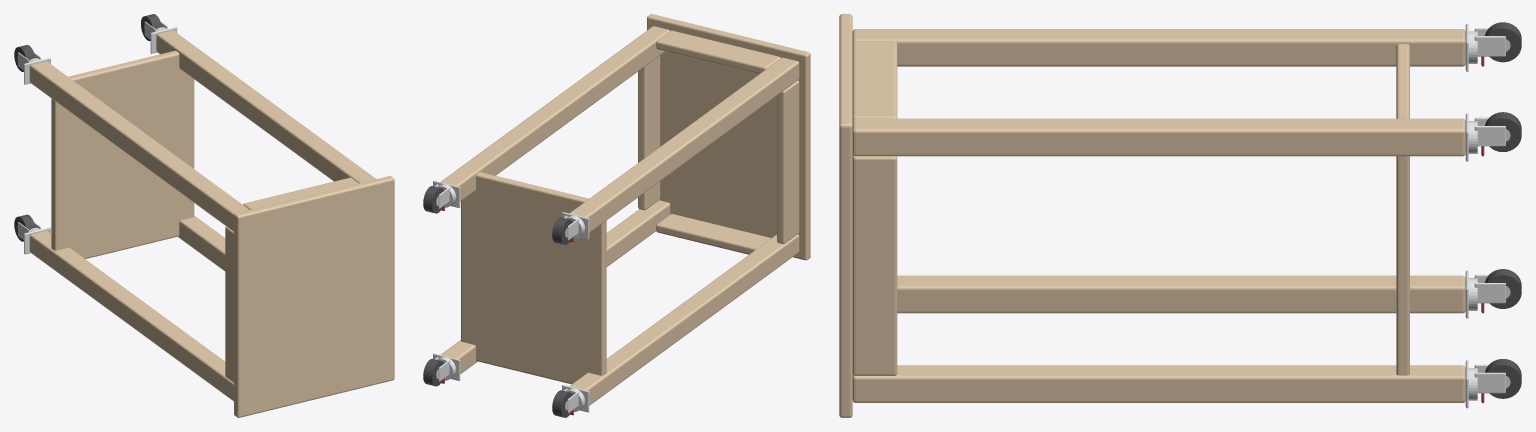
The model's file is robot_cart.glb.
The picture shows the model from 3 angles, left to right: view 1: azimuth 30°, elevation 25°; view 2: azimuth 150°, elevation 25°; view 3: azimuth 270°, elevation 25°; orthographic projection. The views are drawn at different scales.
Visible parts, largest first — view 1: top, shelf, leg_2, leg_0, leg_3, leg_1, apron_x-1, apron_1; view 2: shelf, top, leg_2, leg_0, leg_3, apron_x-1, leg_1, apron_x1, apron_1, apron_-1, caster_wheel_2, caster_wheel_0 (+2 smaller); view 3: leg_3, leg_1, leg_2, leg_0, apron_x1, top, shelf, apron_1, caster_wheel_2, caster_wheel_0, caster_wheel_1, caster_wheel_3 (+4 smaller).
Part boxes in pixels (x1=…): top: x1=234, y1=176, x2=394, y2=417; shelf: x1=51, y1=50, x2=194, y2=258; leg_2: x1=29, y1=61, x2=249, y2=231; leg_0: x1=29, y1=231, x2=233, y2=401; leg_3: x1=156, y1=30, x2=376, y2=183; leg_1: x1=178, y1=215, x2=225, y2=271; apron_x-1: x1=225, y1=226, x2=233, y2=382; apron_1: x1=243, y1=177, x2=358, y2=209; shelf: x1=461, y1=172, x2=606, y2=384; top: x1=647, y1=14, x2=810, y2=260; leg_2: x1=569, y1=57, x2=799, y2=232; leg_0: x1=569, y1=234, x2=799, y2=405; leg_3: x1=440, y1=26, x2=669, y2=201; apron_x-1: x1=777, y1=80, x2=799, y2=244; leg_1: x1=440, y1=200, x2=670, y2=373; apron_x1: x1=638, y1=55, x2=660, y2=210; apron_1: x1=656, y1=30, x2=780, y2=73; apron_-1: x1=656, y1=214, x2=771, y2=254; caster_wheel_2: x1=552, y1=217, x2=572, y2=244; caster_wheel_0: x1=552, y1=390, x2=572, y2=417; leg_3: x1=852, y1=118, x2=1465, y2=156; leg_1: x1=852, y1=365, x2=1465, y2=402; leg_2: x1=852, y1=29, x2=1465, y2=66; leg_0: x1=897, y1=275, x2=1465, y2=313; apron_x1: x1=852, y1=155, x2=897, y2=375; top: x1=839, y1=14, x2=852, y2=417; shelf: x1=1396, y1=44, x2=1409, y2=375; apron_1: x1=852, y1=41, x2=897, y2=120; caster_wheel_2: x1=1485, y1=22, x2=1521, y2=62; caster_wheel_0: x1=1485, y1=269, x2=1521, y2=308; caster_wheel_1: x1=1485, y1=359, x2=1521, y2=398; caster_wheel_3: x1=1485, y1=112, x2=1521, y2=151.
Bounding box in the file's own units: 0.355 × 0.435 × 0.915.
